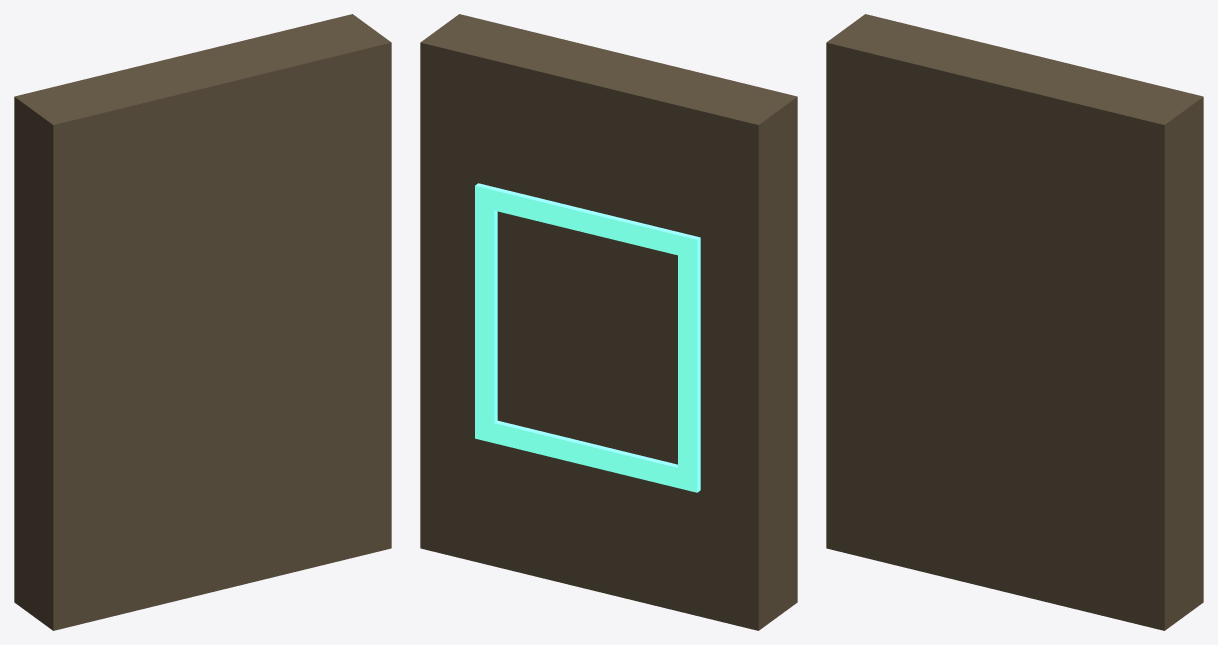
File: glyph_signboard.glb
The picture shows the model from 3 angles, left to right: view 1: azimuth 30°, elevation 25°; view 2: azimuth 150°, elevation 25°; view 3: azimuth 330°, elevation 25°; orthographic projection.
Visible parts, largest first — view 1: GLYPH_Signboard; view 2: GLYPH_Signboard; view 3: GLYPH_Signboard.
Boxes of the visible parts, bbox=[...] form: GLYPH_Signboard: bbox=[14, 14, 391, 630]; GLYPH_Signboard: bbox=[420, 14, 797, 630]; GLYPH_Signboard: bbox=[826, 14, 1203, 630].
Bounding box in the file's own units: 0.7 × 1 × 0.152.
